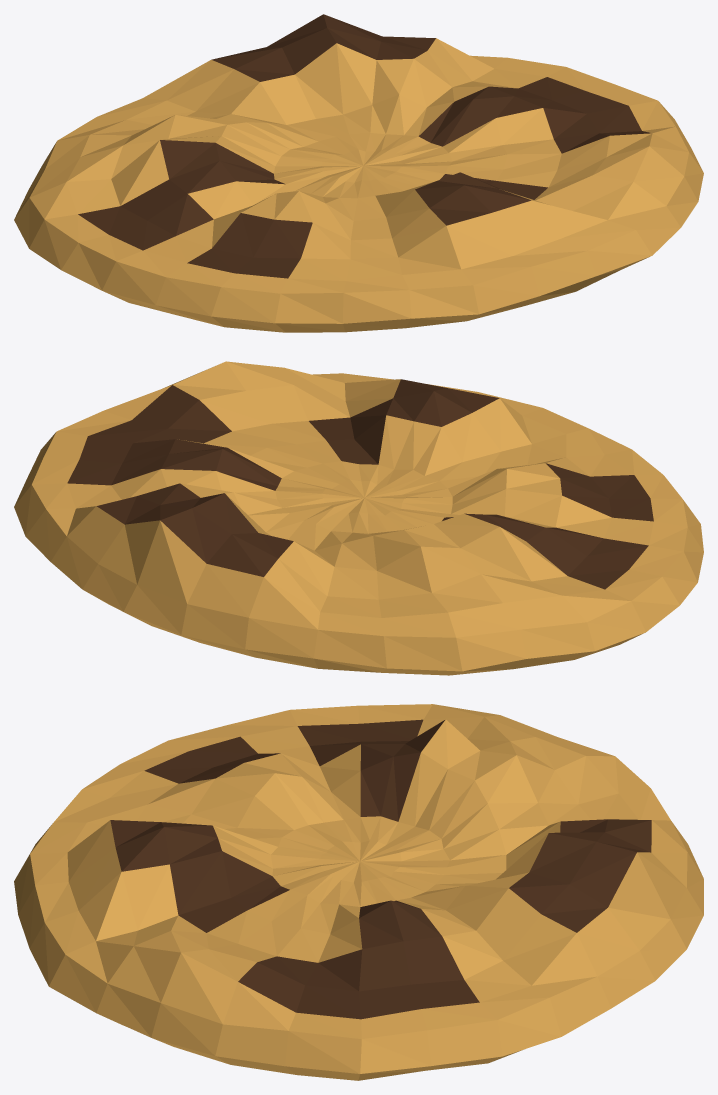
Rendered from flatbread.glb.
3 renders of one model, top to bottom at view 1: azimuth 30°, elevation 25°; view 2: azimuth 150°, elevation 25°; view 3: azimuth 270°, elevation 25°, orthographic. The views are drawn at different scales.
Size of the model in its own units: 2.04 by 0.3294 by 1.7.
